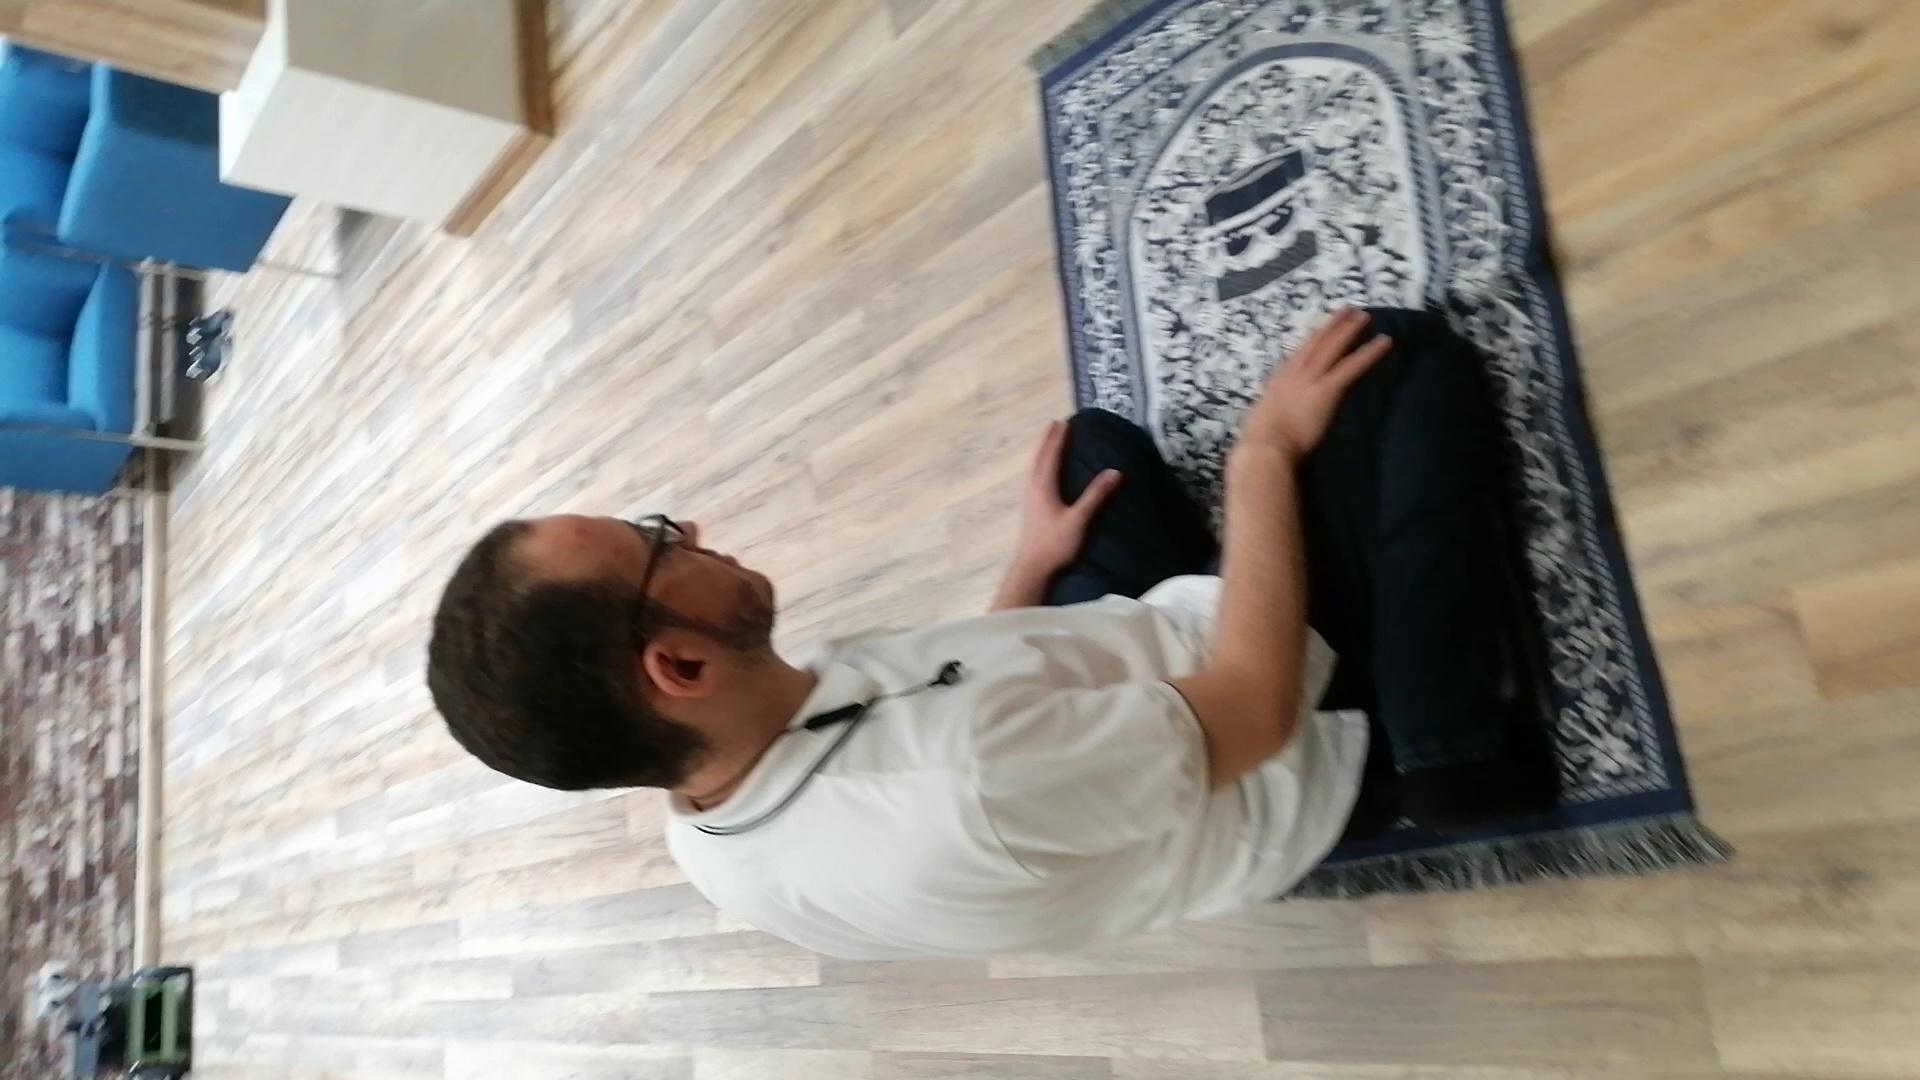sitting: (406, 294, 1567, 975)
